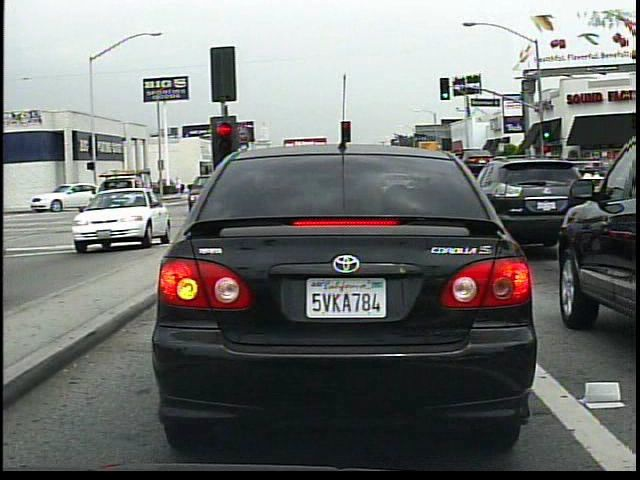person: (175, 176, 185, 195)
